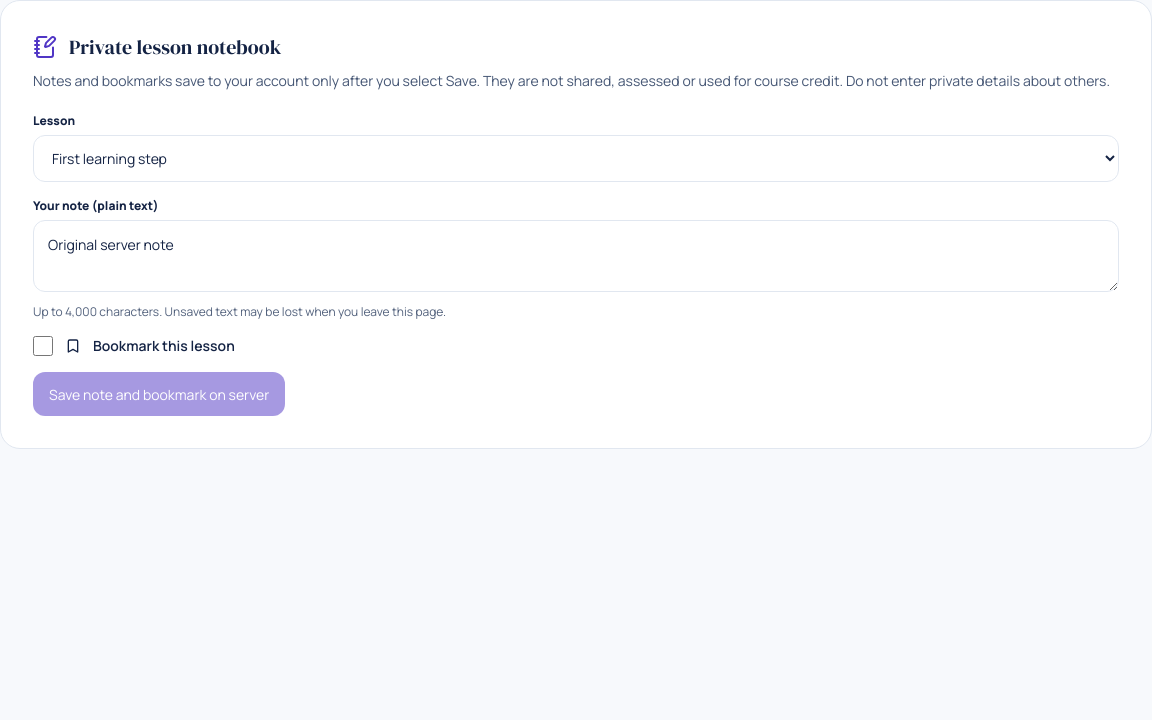
Scenario: private, server-saved lesson notebook › keeps a conflicting note for comparison; overwrites only after explicit acknowledgement
Replace the text in the text box labelled "Your note (plain text)" with "My carefully compared draft" at (576, 256), box [33,220,1119,292]
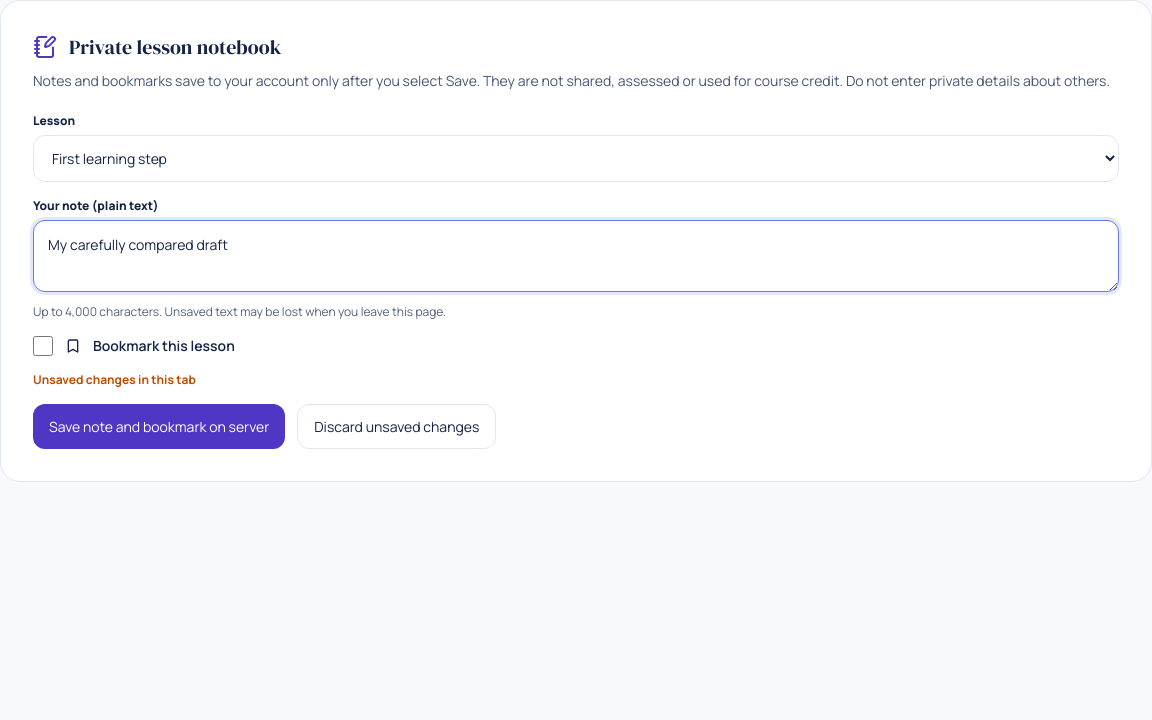
Click the button "Save note and bookmark on server" at (159, 427), box [33,404,285,449]
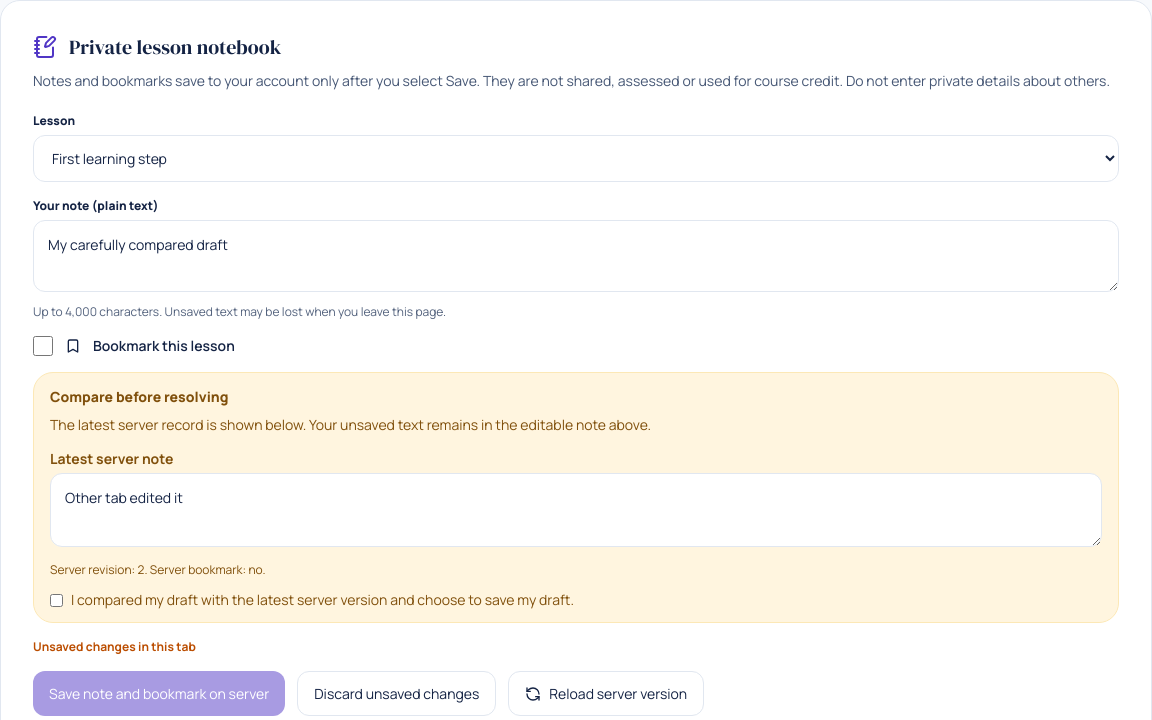
Now the text "Compare before resolving" is shown, box [50,387,228,406]
Now the text box labelled "Latest server note" holds "Other tab edited it", box [50,473,1102,547]
Now the button "Save note and bookmark on server" is disabled, box [33,671,285,716]
Click the checkbox labelled "I compared my draft" at (56, 601), box [50,594,63,607]
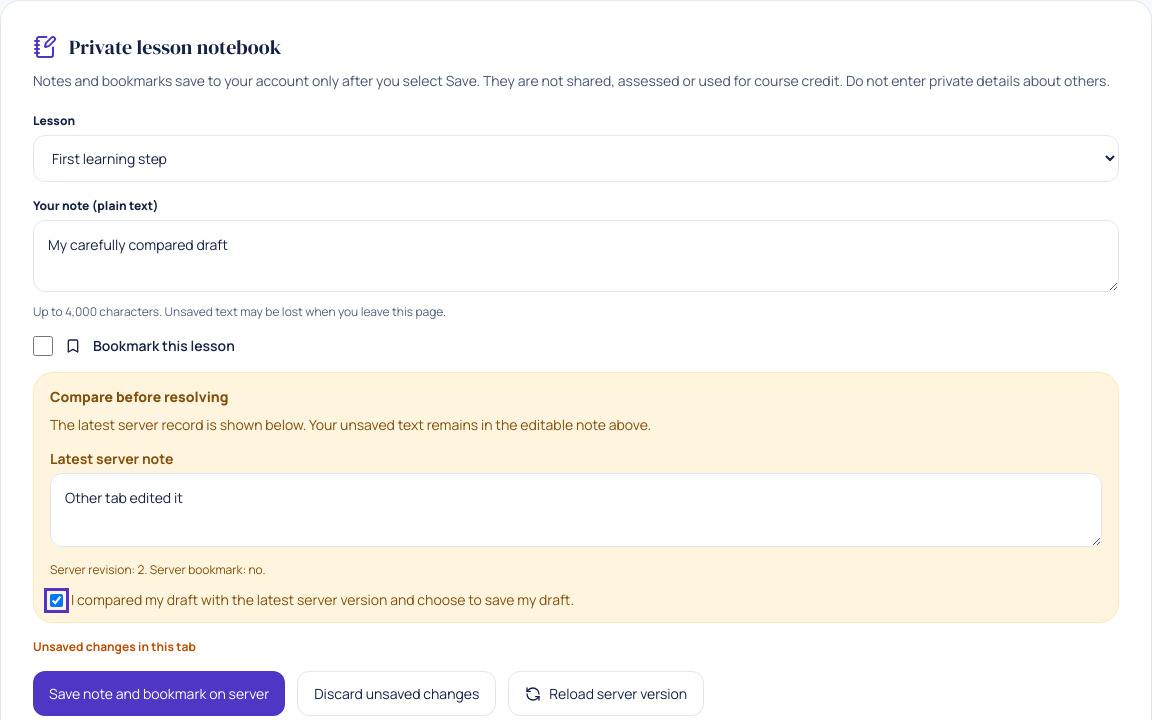
Click the button "Save note and bookmark on server" at (159, 694), box [33,671,285,716]
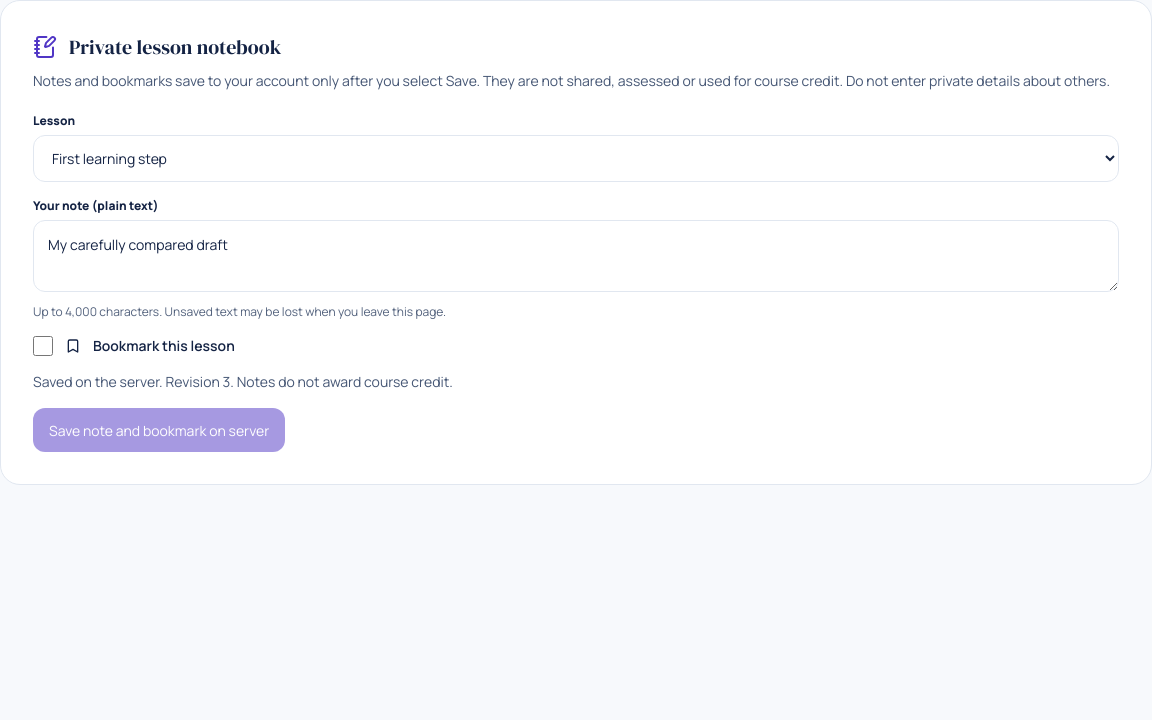
Now the text "Saved on the server. Revision 3. Notes do not award course credit." is shown, box [33,372,453,391]
